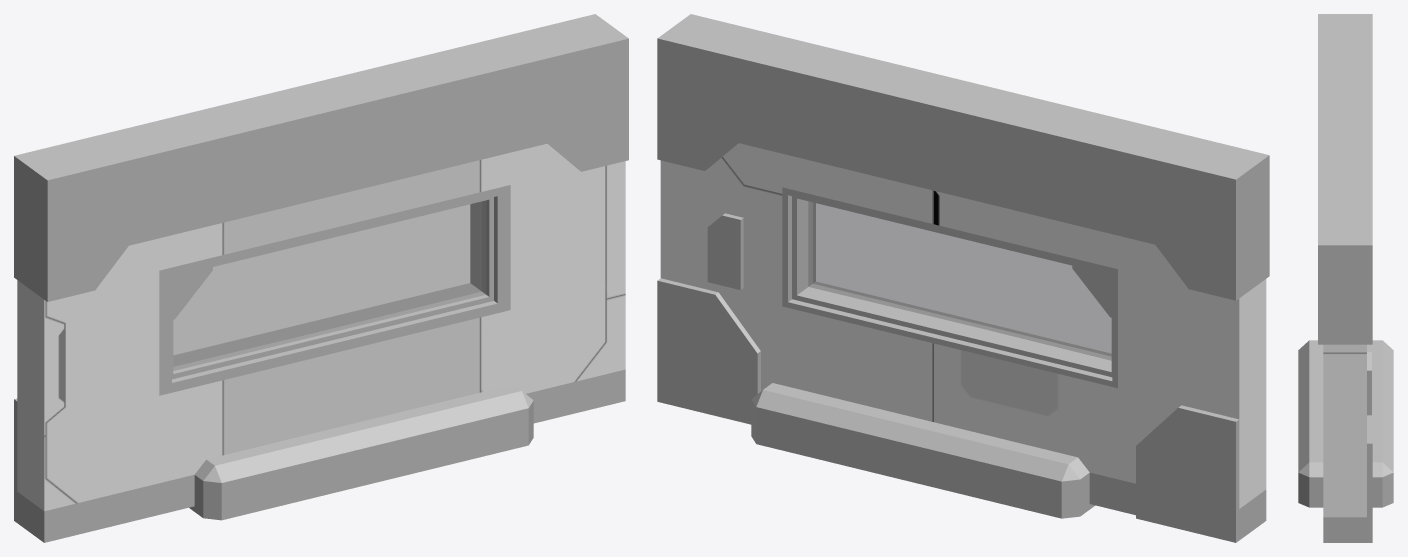
Rendered from SM_Wall_5x3_Window_1.fbx.
3 views of the same model, side by side, from view 1: azimuth 30°, elevation 25°; view 2: azimuth 150°, elevation 25°; view 3: azimuth 270°, elevation 25° (orthographic). The views are drawn at different scales.
Visible parts, largest first — view 1: SM_Wall_5x3_Window_1; view 2: SM_Wall_5x3_Window_1; view 3: SM_Wall_5x3_Window_1.
Part boxes in pixels (bbox=[...]): SM_Wall_5x3_Window_1: bbox=[14, 14, 628, 542]; SM_Wall_5x3_Window_1: bbox=[657, 14, 1269, 542]; SM_Wall_5x3_Window_1: bbox=[1298, 14, 1393, 542].
Size of the model in its own units: 500 by 305 by 87.34.
